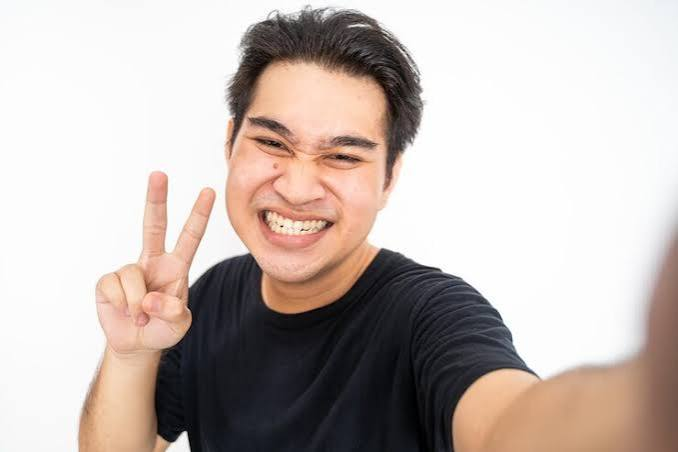peace_sign: (92, 168, 219, 357)
